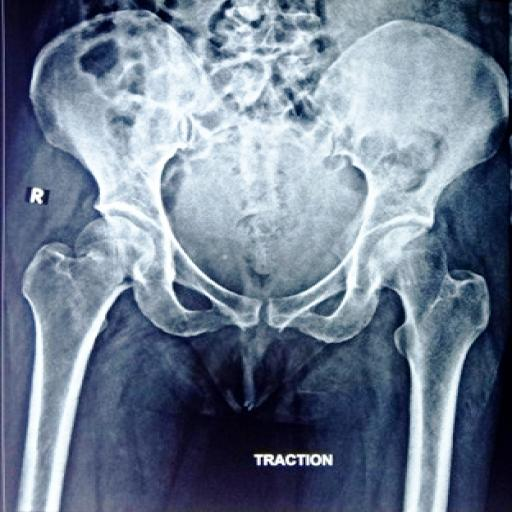neck: (21, 242, 134, 387), (75, 216, 157, 281)
normal: (367, 225, 490, 412)
